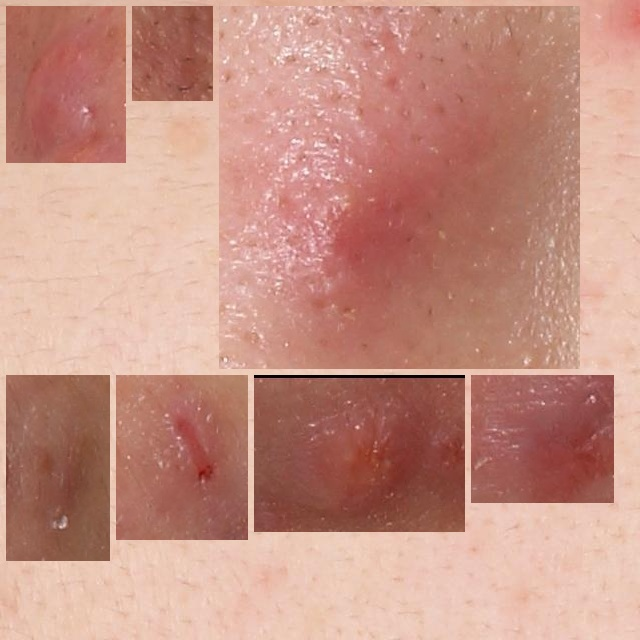nodule: (227, 14, 572, 361), (262, 383, 457, 524), (124, 383, 240, 532), (14, 383, 102, 553), (14, 14, 118, 155), (479, 383, 606, 495), (140, 14, 205, 93)
